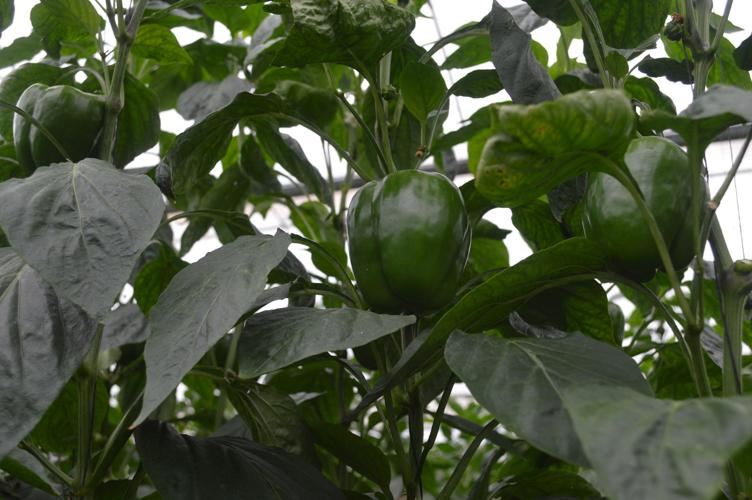BellPepper: (339, 166, 470, 309), (573, 134, 701, 279), (8, 82, 101, 160)
